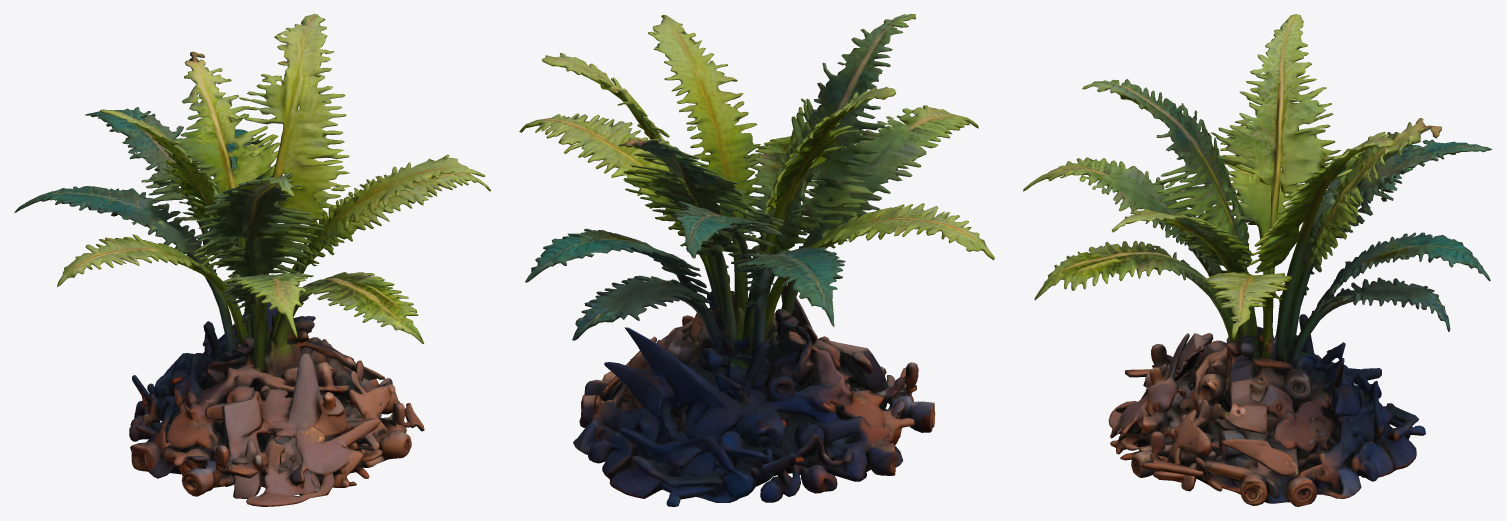
Rendered from nature-fern.glb.
3 renders of one model, left to right at view 1: azimuth 30°, elevation 25°; view 2: azimuth 150°, elevation 25°; view 3: azimuth 270°, elevation 25°, orthographic. The views are drawn at different scales.
Parts seen in each view (by area): view 1: tripo_node_fa23e671-910d-4d95-aa3d-a2fd3e1d9be4; view 2: tripo_node_fa23e671-910d-4d95-aa3d-a2fd3e1d9be4; view 3: tripo_node_fa23e671-910d-4d95-aa3d-a2fd3e1d9be4.
Boxes of the visible parts, bbox=[...] form: tripo_node_fa23e671-910d-4d95-aa3d-a2fd3e1d9be4: bbox=[14, 14, 490, 506]; tripo_node_fa23e671-910d-4d95-aa3d-a2fd3e1d9be4: bbox=[519, 14, 994, 506]; tripo_node_fa23e671-910d-4d95-aa3d-a2fd3e1d9be4: bbox=[1023, 14, 1491, 506].
Bounding box in the file's own units: 1.26 × 1 × 1.18.
1 material, 1 textured.
